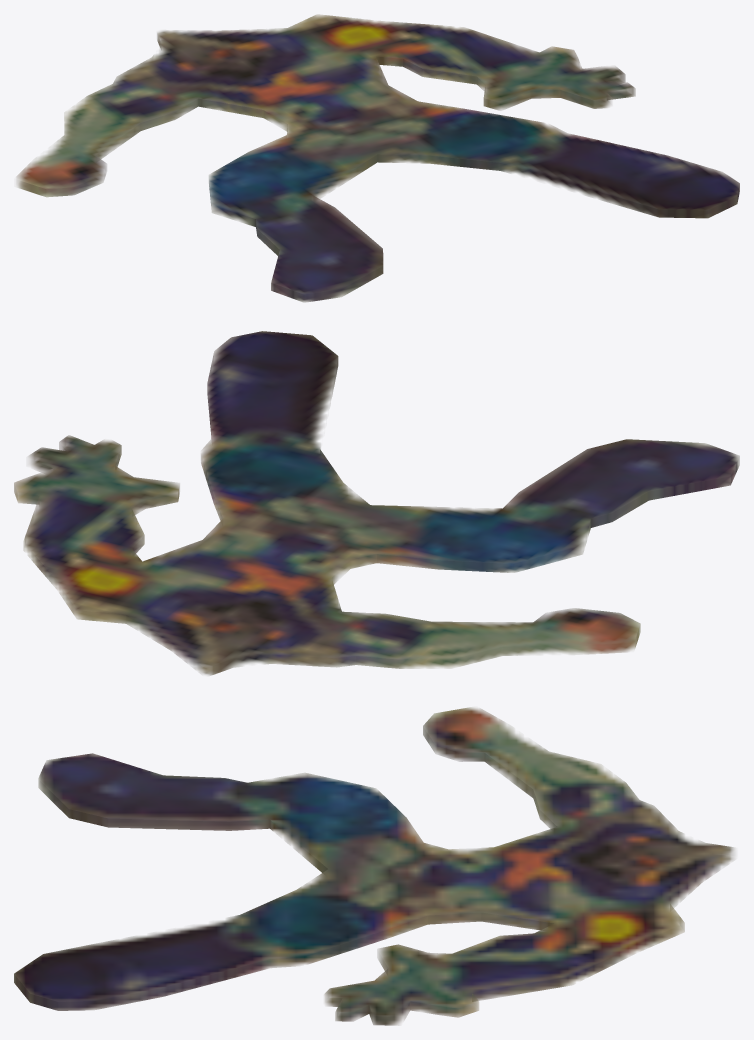
Rendered from ChienBinhNuoc.glb.
3 views of the same model, one above another, from view 1: azimuth 30°, elevation 25°; view 2: azimuth 150°, elevation 25°; view 3: azimuth 270°, elevation 25° (orthographic). The views are drawn at different scales.
Visible parts, largest first — view 1: ChienBinhNuoc; view 2: ChienBinhNuoc; view 3: ChienBinhNuoc.
Part boxes in pixels (x1,y1,x2,y2): ChienBinhNuoc: (16, 14, 739, 302); ChienBinhNuoc: (14, 331, 739, 676); ChienBinhNuoc: (14, 707, 737, 1025).
Size of the model in its own units: 0.3686 by 0.005 by 0.3639.
Materials: 1 (1 with a texture image).
